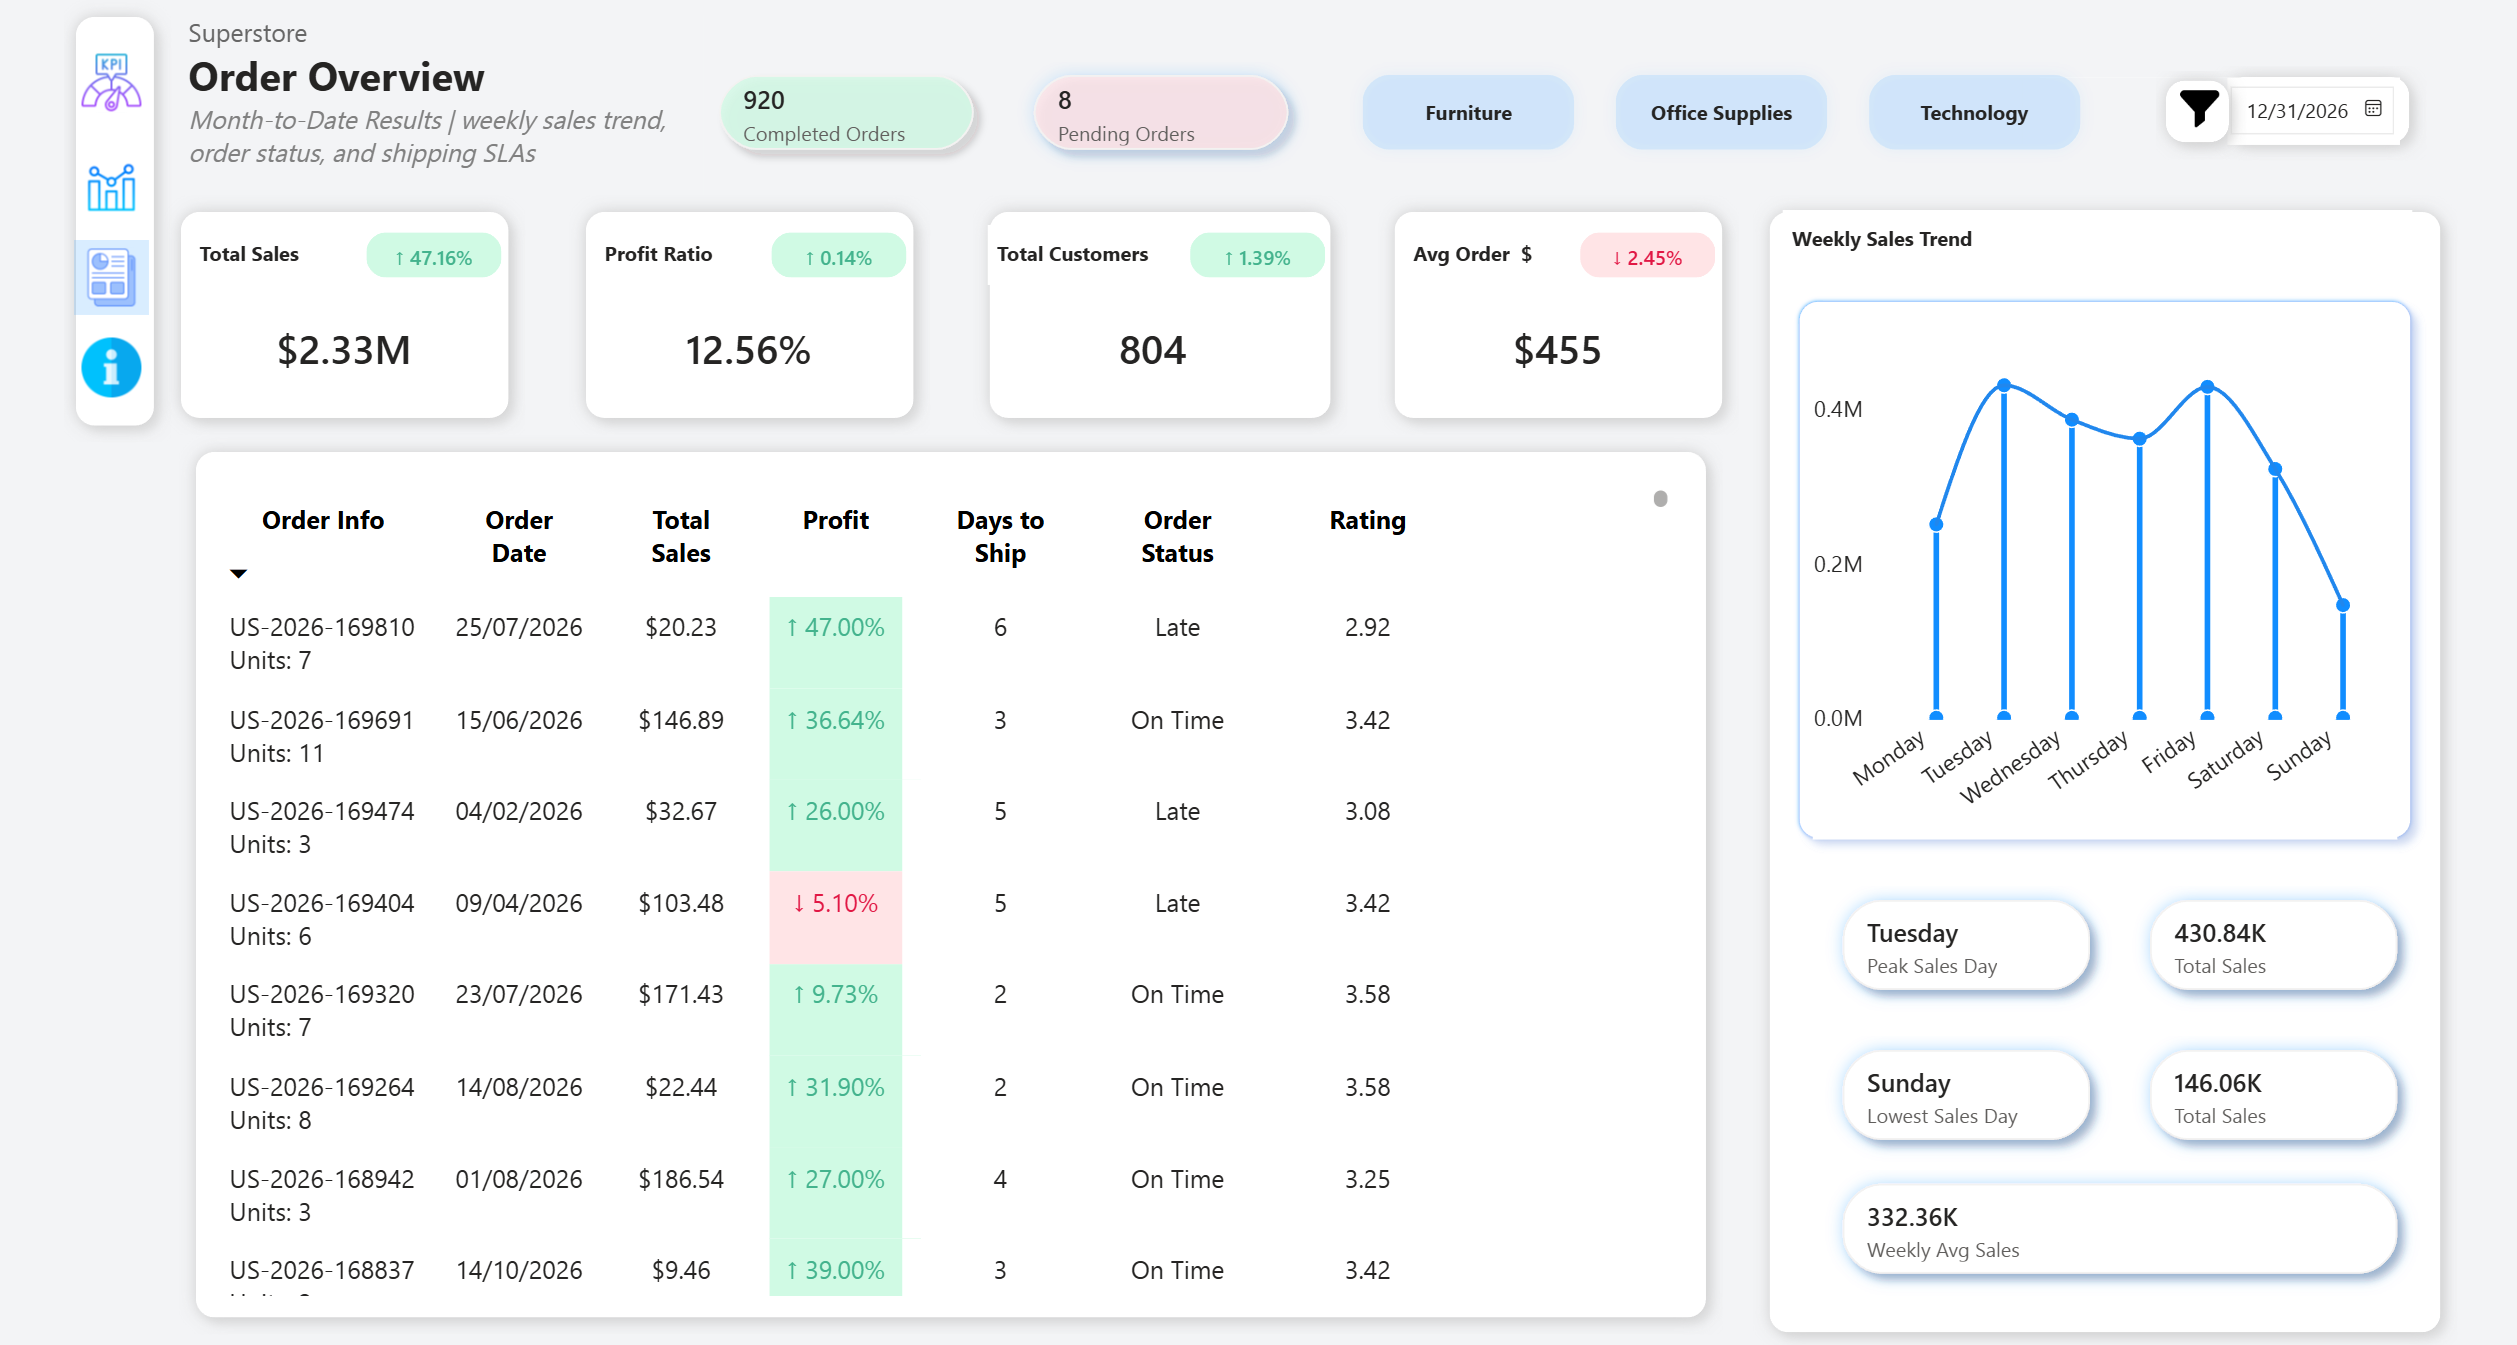

What the dashboard file says about the page in this screenshot:
{"tool":"powerbi","page":{"name":"Order overview","canvas":[1280,720],"ordinal":2},"visuals":[{"type":"shape","title":"Shape_base","box":[0,0,59.7,236.1],"z":0,"group":"g9"},{"type":"advancedSlicerVisual","fields":{"Values":["Orders.Category"]},"box":[680,24,416,72],"z":0,"group":"g5"},{"type":"shape","box":[1147.2,32,115.9,53.4],"z":0,"group":"g2"},{"type":"shape","box":[56,104,192.9,128],"z":0,"group":"g3"},{"type":"shape","box":[272,104,192.9,128],"z":0,"group":"g4"},{"type":"shape","box":[488,104,200,128],"z":0,"group":"g6"},{"type":"shape","box":[704,104,192.9,128],"z":0,"group":"g7"},{"type":"shape","box":[904,104,376,616],"z":0,"group":"g8"},{"type":"group","id":"g1","title":"Order_table","box":[64,232,824,480],"z":0},{"type":"shape","box":[64,232,824,480],"z":0,"group":"g1"},{"type":"actionButton","box":[8,176,40,40],"z":500,"group":"g9"},{"type":"tableEx","fields":{"Values":["Orders.Order Info","Orders.Order Date","Orders.Total Sales","Orders.Profit Margin","Orders.Days to Ship","Orders.Order Status Icon","Orders.Overall Score"]},"box":[80,256,784,440],"z":500,"group":"g1"},{"type":"actionButton","box":[8,24,40,40],"z":1000,"group":"g9"},{"type":"group","id":"g2","title":"Date","box":[1048,32,216,56],"z":1000},{"type":"slicer","fields":{"Values":["Date.Date"]},"box":[1057.2,41.2,191.8,35.9],"z":1000,"group":"g2"},{"type":"textbox","box":[718.3,120,92.9,32],"z":1000,"group":"g7"},{"type":"cardVisual","fields":{"Data":["Orders.Total Sales"]},"box":[70.3,152,164.3,64],"z":1000,"group":"g3"},{"type":"cardVisual","fields":{"Data":["Orders.Profit Margin"]},"box":[286.3,152,164.3,64],"z":1000,"group":"g4"},{"type":"cardVisual","fields":{"Data":["Orders.Total Customers"]},"box":[502.3,152,164.3,64],"z":1000,"group":"g6"},{"type":"shape","title":"Peak_sale","box":[920,152,344,304],"z":1000,"group":"g8"},{"type":"actionButton","box":[8,80,40,40],"z":1500,"group":"g9"},{"type":"shape","box":[1048,41.2,109.2,37.5],"z":2000,"group":"g2"},{"type":"textbox","box":[70.3,120,92.9,32],"z":2000,"group":"g3"},{"type":"textbox","box":[286.3,120,92.9,32],"z":2000,"group":"g4"},{"type":"textbox","box":[496,120,96,32],"z":2000,"group":"g6"},{"type":"actionButton","box":[8,128,40,40],"z":2000,"group":"g9"},{"type":"cardVisual","fields":{"Data":["Orders.Avg Order Value"]},"box":[720,152,160,64],"z":2000,"group":"g7"},{"type":"cardVisual","fields":{"Data":["Orders.Weekly Avg Sales"]},"box":[928,608,344,96],"z":2000,"group":"g8"},{"type":"textbox","title":"Title","box":[64,8,280,96],"z":3000},{"type":"shape","box":[1115.2,34,51.7,50.9],"z":3000,"group":"g2"},{"type":"cardVisual","fields":{"Data":["Orders.Sales YoY %"]},"box":[152,112,96,48],"z":3000,"group":"g3"},{"type":"cardVisual","title":"Indicator","fields":{"Data":["Orders.Profit Ratio Change"]},"box":[368,112,96,48],"z":3000,"group":"g4"},{"type":"cardVisual","fields":{"Data":["Orders.Customers YoY %"]},"box":[592,112,96,48],"z":3000,"group":"g6"},{"type":"cardVisual","fields":{"Data":["Orders.AOV YoY %"]},"box":[800,112,96,48],"z":3000,"group":"g7"},{"type":"cardVisual","fields":{"Data":["Orders.Lowest Sales Day","Orders.Total Sales"]},"box":[928,536,344,96],"z":3000,"group":"g8"},{"type":"cardVisual","fields":{"Data":["Orders.Total Completed Orders","Orders.Total Pending Orders"]},"box":[328,16,352,88],"z":4000},{"type":"image","box":[1130.2,43,25,29.2],"z":4000,"group":"g2"},{"type":"cardVisual","fields":{"Data":["Orders.Peak Sales Day","Orders.Total Sales"]},"box":[928,456,344,96],"z":4000,"group":"g8"},{"type":"group","id":"g3","title":"Sales KPI","box":[56,104,192.9,128],"z":5000},{"type":"lineStackedColumnComboChart","fields":{"Category":["Date.Day Name"],"Y":["Orders.Total Sales"],"Y2":["Orders.Total Sales"]},"box":[936,168,312,280],"z":5000,"group":"g8"},{"type":"group","id":"g4","title":"Profit_ratio","box":[272,104,192.9,128],"z":6000},{"type":"textbox","box":[920,112,336,32],"z":6000,"group":"g8"},{"type":"group","id":"g5","title":"Category_selector","box":[680,24,408,64],"z":7000},{"type":"group","id":"g6","title":"Customer ","box":[488,104,200,128],"z":8000},{"type":"group","id":"g7","title":"Avg_order","box":[704,104,192,128],"z":9000},{"type":"group","id":"g8","title":"Weekly_orders","box":[904,104,376,616],"z":10000},{"type":"group","id":"g9","title":"Navigation bar","box":[0,0,56,232],"z":11000}]}

Visuals, with their boxes on the page's 1280x720 design canvas (x1, y1, x2, y2). These are canvas units, not pixel positions in the 2517x1345 screenshot, which may show the page scaled, cropped or inside an application window:
"Shape_base" shape: (0, 0, 60, 236)
advancedSlicerVisual - Orders.Category: (680, 24, 1096, 96)
shape: (1147, 32, 1263, 85)
shape: (56, 104, 249, 232)
shape: (272, 104, 465, 232)
shape: (488, 104, 688, 232)
shape: (704, 104, 897, 232)
shape: (904, 104, 1280, 720)
"Order_table" group: (64, 232, 888, 712)
shape: (64, 232, 888, 712)
actionButton: (8, 176, 48, 216)
tableEx - Orders.Order Info x Orders.Order Date: (80, 256, 864, 696)
actionButton: (8, 24, 48, 64)
"Date" group: (1048, 32, 1264, 88)
slicer - Date.Date: (1057, 41, 1249, 77)
textbox: (718, 120, 811, 152)
cardVisual - Orders.Total Sales: (70, 152, 235, 216)
cardVisual - Orders.Profit Margin: (286, 152, 451, 216)
cardVisual - Orders.Total Customers: (502, 152, 667, 216)
"Peak_sale" shape: (920, 152, 1264, 456)
actionButton: (8, 80, 48, 120)
shape: (1048, 41, 1157, 79)
textbox: (70, 120, 163, 152)
textbox: (286, 120, 379, 152)
textbox: (496, 120, 592, 152)
actionButton: (8, 128, 48, 168)
cardVisual - Orders.Avg Order Value: (720, 152, 880, 216)
cardVisual - Orders.Weekly Avg Sales: (928, 608, 1272, 704)
"Title" textbox: (64, 8, 344, 104)
shape: (1115, 34, 1167, 85)
cardVisual - Orders.Sales YoY %: (152, 112, 248, 160)
"Indicator" cardVisual: (368, 112, 464, 160)
cardVisual - Orders.Customers YoY %: (592, 112, 688, 160)
cardVisual - Orders.AOV YoY %: (800, 112, 896, 160)
cardVisual - Orders.Lowest Sales Day x Orders.Total Sales: (928, 536, 1272, 632)
cardVisual - Orders.Total Completed Orders x Orders.Total Pending Orders: (328, 16, 680, 104)
image: (1130, 43, 1155, 72)
cardVisual - Orders.Peak Sales Day x Orders.Total Sales: (928, 456, 1272, 552)
"Sales KPI" group: (56, 104, 249, 232)
lineStackedColumnComboChart - Date.Day Name x Orders.Total Sales: (936, 168, 1248, 448)
"Profit_ratio" group: (272, 104, 465, 232)
textbox: (920, 112, 1256, 144)
"Category_selector" group: (680, 24, 1088, 88)
"Customer " group: (488, 104, 688, 232)
"Avg_order" group: (704, 104, 896, 232)
"Weekly_orders" group: (904, 104, 1280, 720)
"Navigation bar" group: (0, 0, 56, 232)
